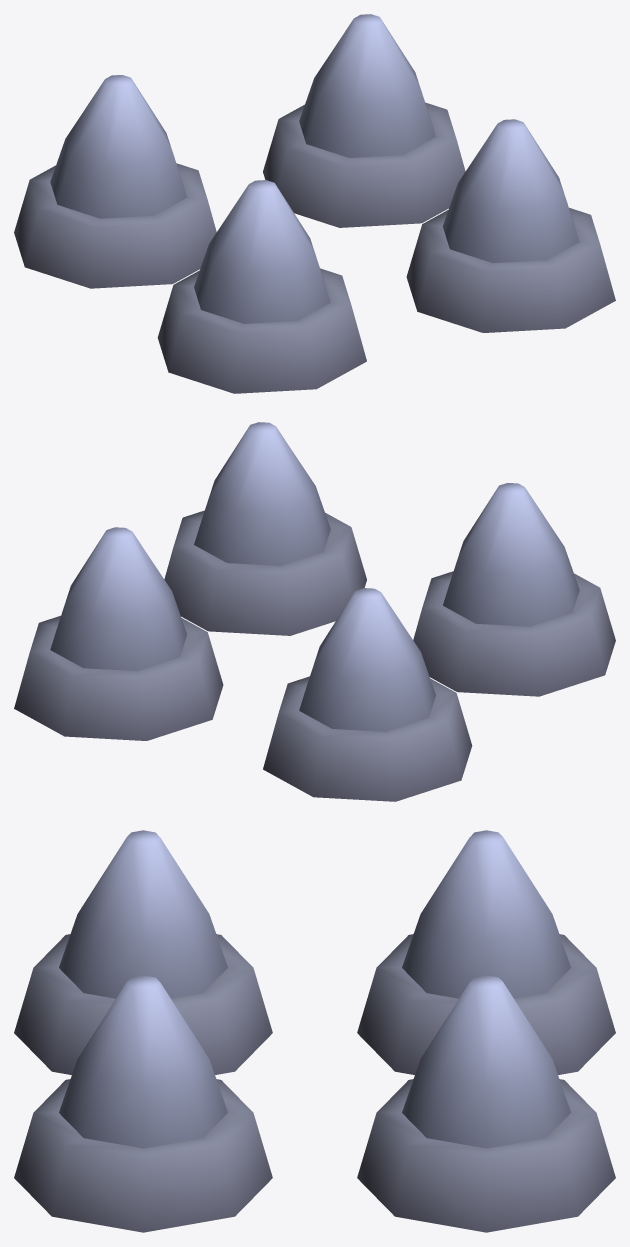
Rendered from trap.obj.
3 views of the same model, one above another, from view 1: azimuth 30°, elevation 25°; view 2: azimuth 150°, elevation 25°; view 3: azimuth 270°, elevation 25° (orthographic). The views are drawn at different scales.
Visible parts, largest first — view 1: trap, spikes; view 2: trap, spikes; view 3: spikes, trap.
Boxes of the visible parts, left/top/right/bottom form: trap: left=14, top=102, right=615, bottom=393; spikes: left=50, top=14, right=579, bottom=323; trap: left=14, top=510, right=615, bottom=801; spikes: left=50, top=422, right=579, bottom=731; spikes: left=59, top=830, right=570, bottom=1148; trap: left=14, top=934, right=615, bottom=1232.
Size of the model in its own units: 0.7897 by 0.2831 by 0.7897.
1 material, 1 textured.
